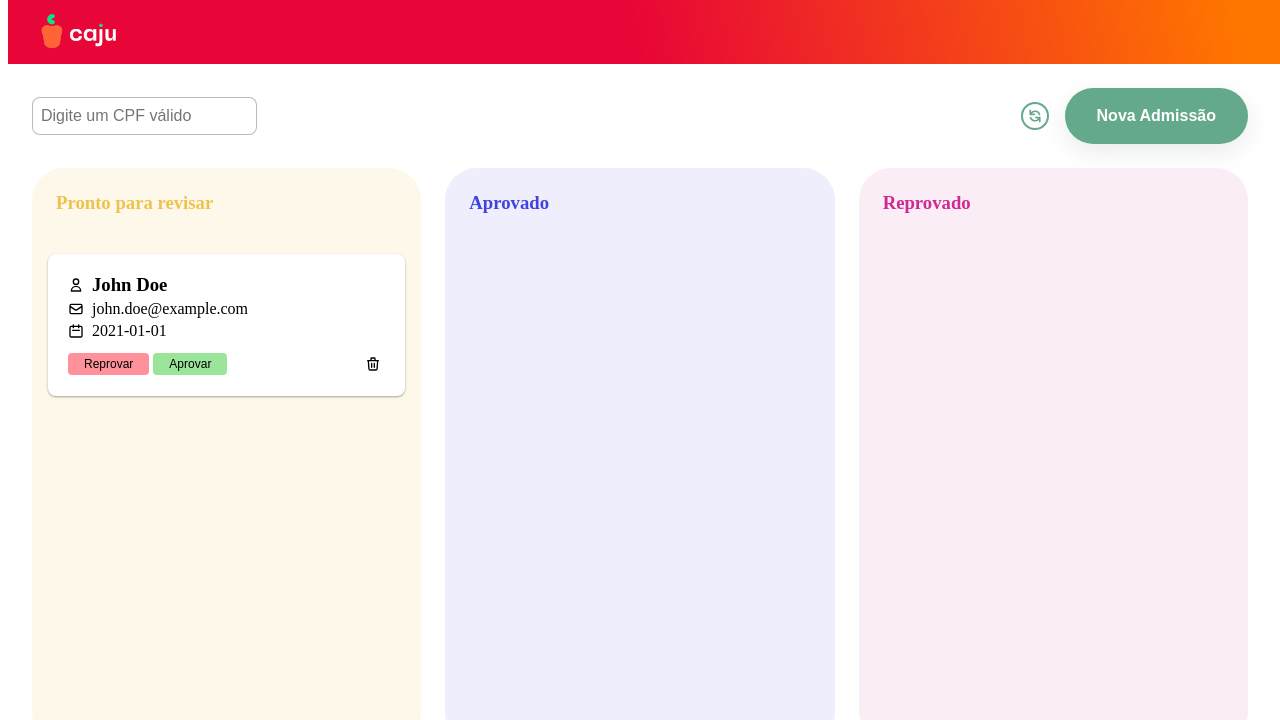
it: Dashboard Page › should close the confirmation modal when "Cancelar" is clicked
Expected: the heading "John Doe" is shown, [92,274,167,296]
Click the button "Aprovar".
click(190, 364)  # box [153,353,227,375]
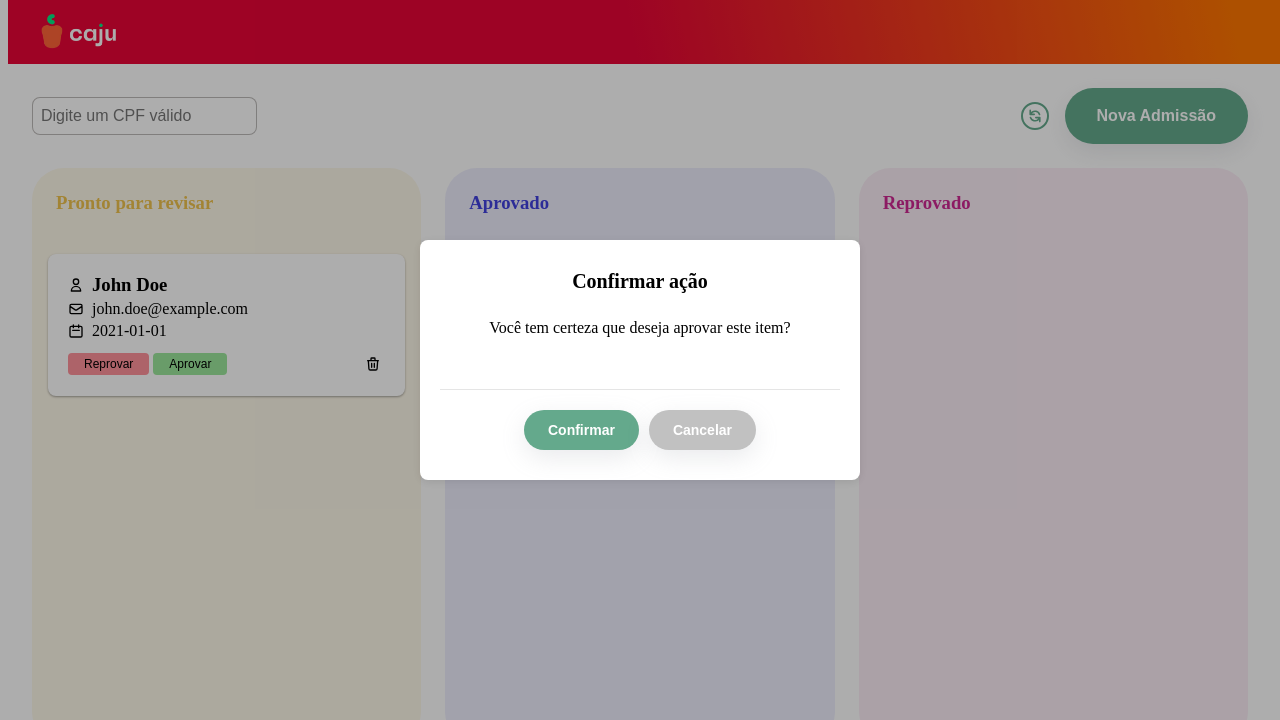
Result: the heading "Confirmar ação" is shown at [572,270,708,292]
Result: the text "Você tem certeza que deseja aprovar este item?" is shown at [489,319,791,336]
Click the button "Cancelar".
click(703, 430)  # box [649,410,756,450]
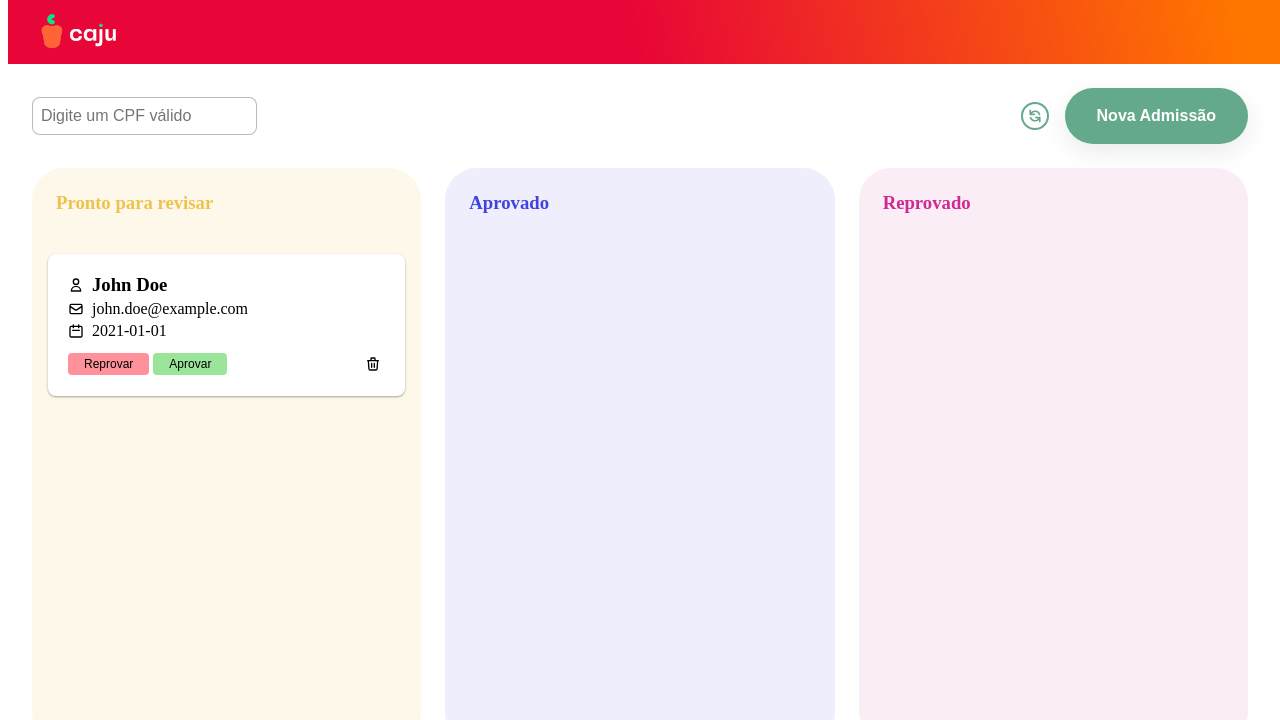
Result: the heading "Confirmar ação" is gone
